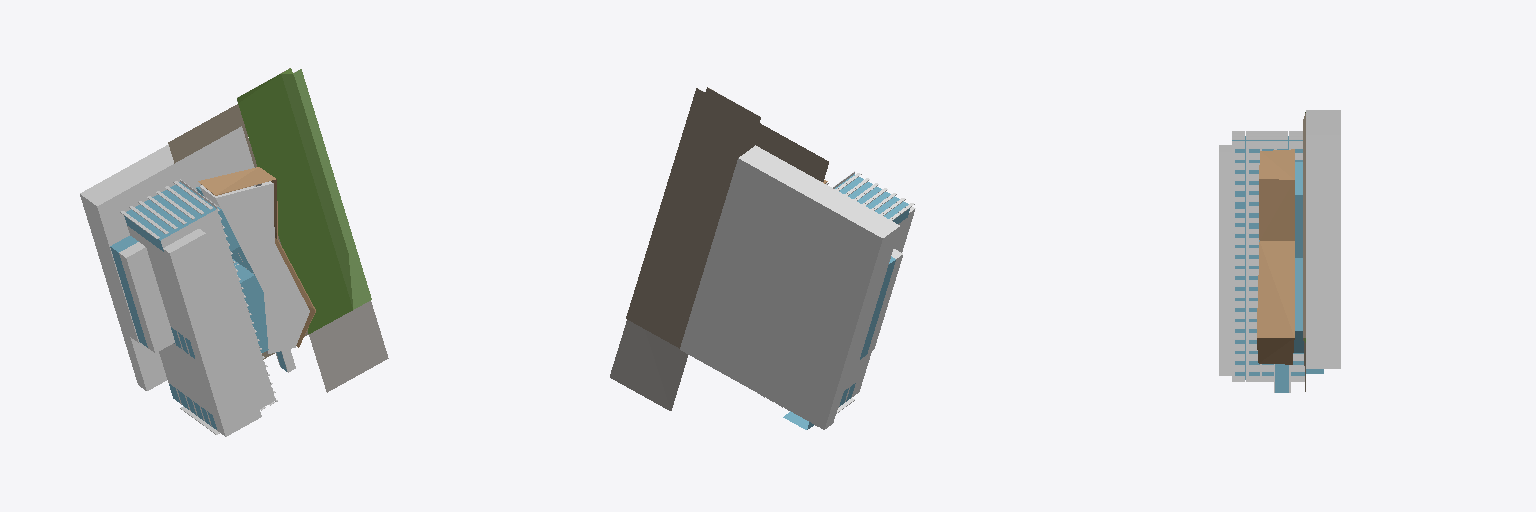
The model's file is opt2-9.obj.
The picture shows the model from 3 angles: view 1: azimuth 30°, elevation 25°; view 2: azimuth 150°, elevation 25°; view 3: azimuth 270°, elevation 25°; orthographic projection.
Size of the model in its own units: 345 by 378 by 126.